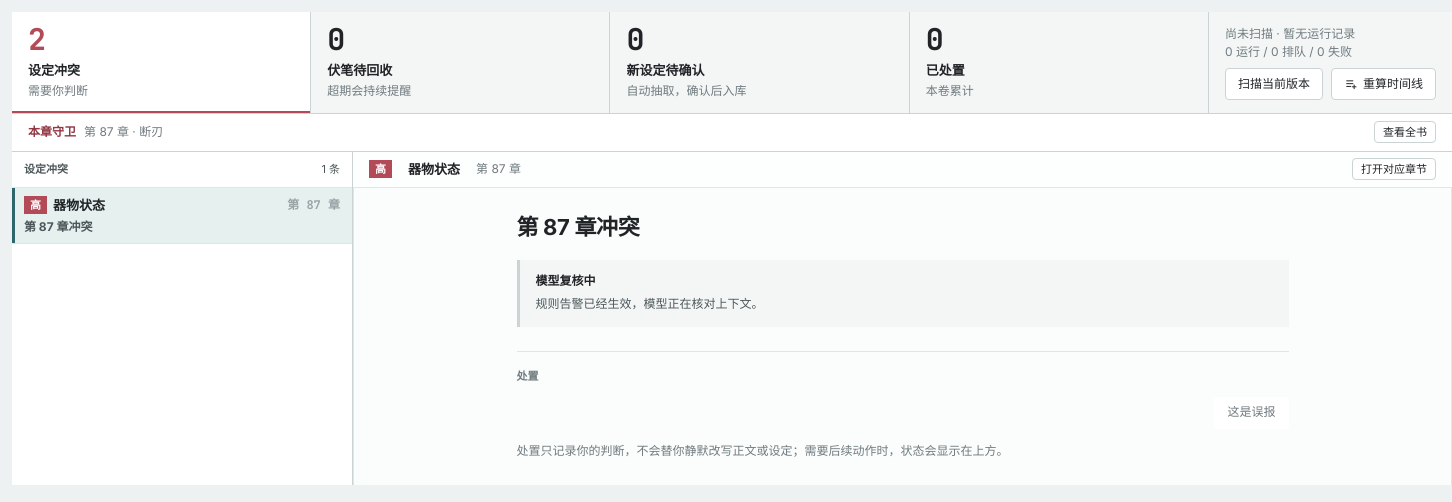
Test: chapter-scoped guard navigation › filters issues to the requested chapter and can restore the whole book
Expected: the element with class "guard-chapter-scope" shows "本章守卫", x1=28 y1=124 x2=76 y2=139
Expected: the element named "告警列表" shows "第 87 章冲突", x1=12 y1=188 x2=352 y2=244
Click the button "查看全书".
click(1405, 132)  # box x1=1374 y1=121 x2=1436 y2=143
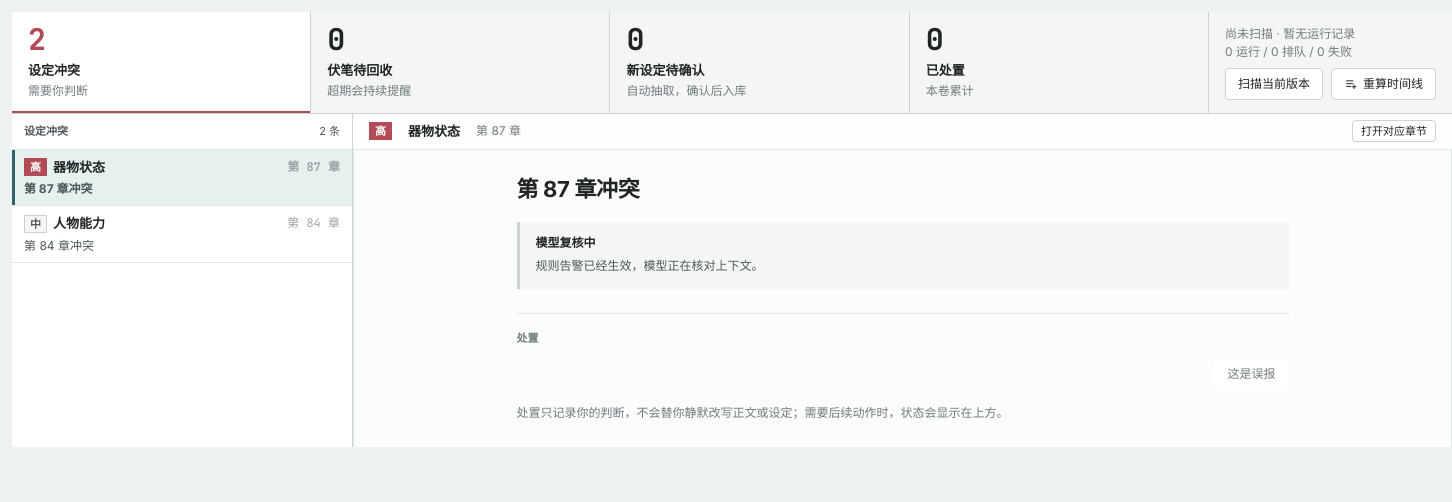
Now the element named "告警列表" shows "第 84 章冲突", box x1=12 y1=206 x2=352 y2=263
